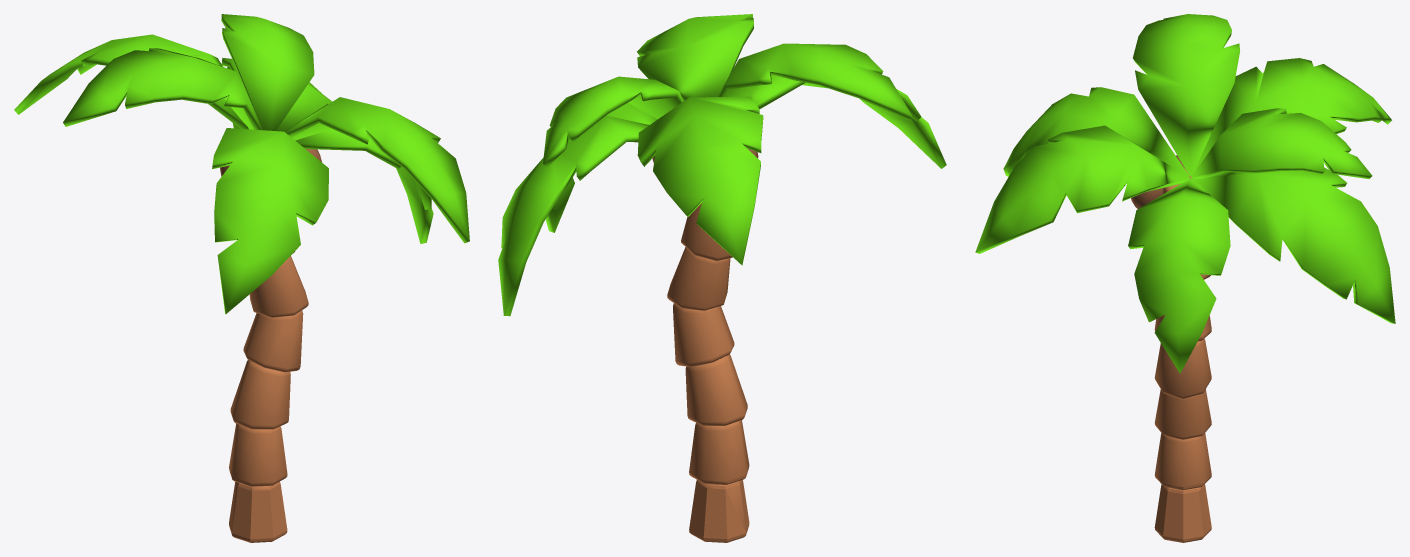
Rendered from palmtree.glb.
The picture shows the model from 3 angles, left to right: view 1: azimuth 30°, elevation 25°; view 2: azimuth 150°, elevation 25°; view 3: azimuth 270°, elevation 25°; orthographic projection. The views are drawn at different scales.
Parts seen in each view (by area): view 1: palmtree; view 2: palmtree; view 3: palmtree.
Part boxes in pixels (left/top/right/bottom): palmtree: left=14, top=14, right=469, bottom=542; palmtree: left=498, top=14, right=946, bottom=542; palmtree: left=975, top=14, right=1395, bottom=542.
Bounding box in the file's own units: 4.94 × 6.49 × 5.34.
